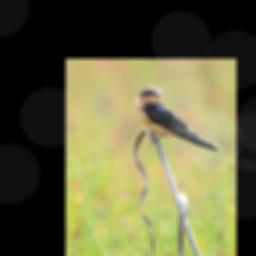Swallow: (133, 82, 227, 154)
